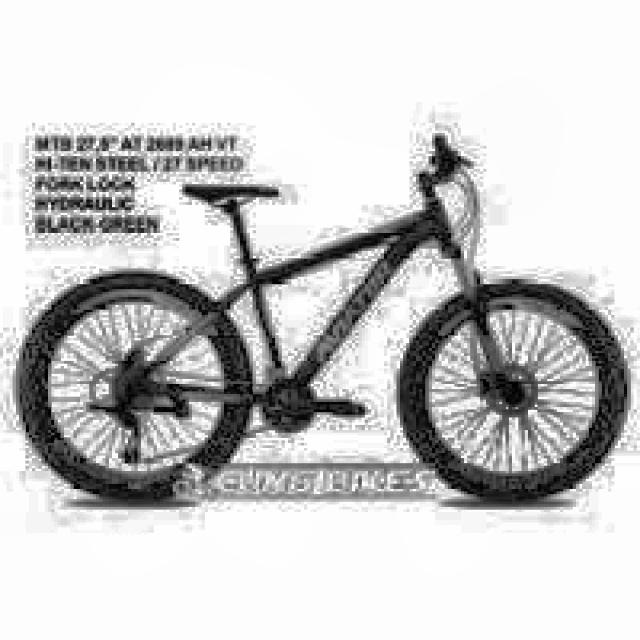bike: (21, 132, 626, 513)
